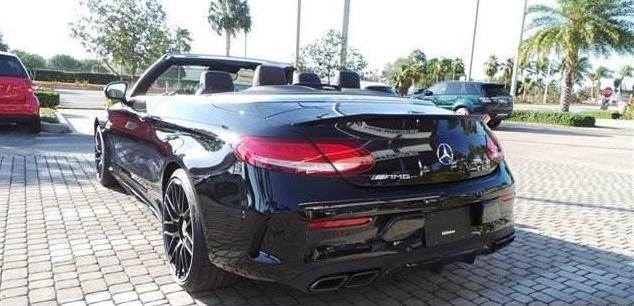C63AMG: (87, 51, 521, 294)
